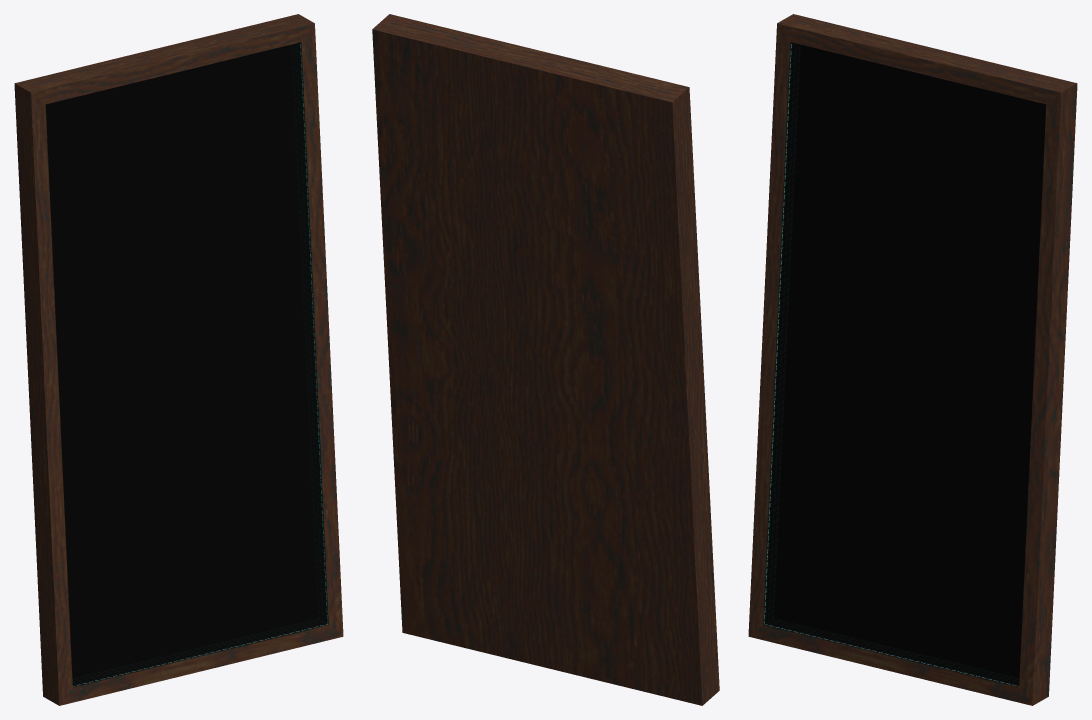
Rendered from mirror2.glb.
3 renders of one model, left to right at view 1: azimuth 30°, elevation 25°; view 2: azimuth 150°, elevation 25°; view 3: azimuth 330°, elevation 25°, orthographic. The views are drawn at different scales.
Parts seen in each view (by area): view 1: Object_4, Object_6; view 2: Object_6; view 3: Object_4, Object_6.
Boxes of the visible parts, box(x1,y1,x2,y2) form: Object_4: box(45, 42, 327, 685); Object_6: box(14, 14, 343, 705); Object_6: box(372, 14, 719, 705); Object_4: box(764, 42, 1046, 685); Object_6: box(748, 14, 1077, 705).
Size of what is drawn, in the model's own units: 1 by 2 by 0.2739.
3 materials, 1 textured.
